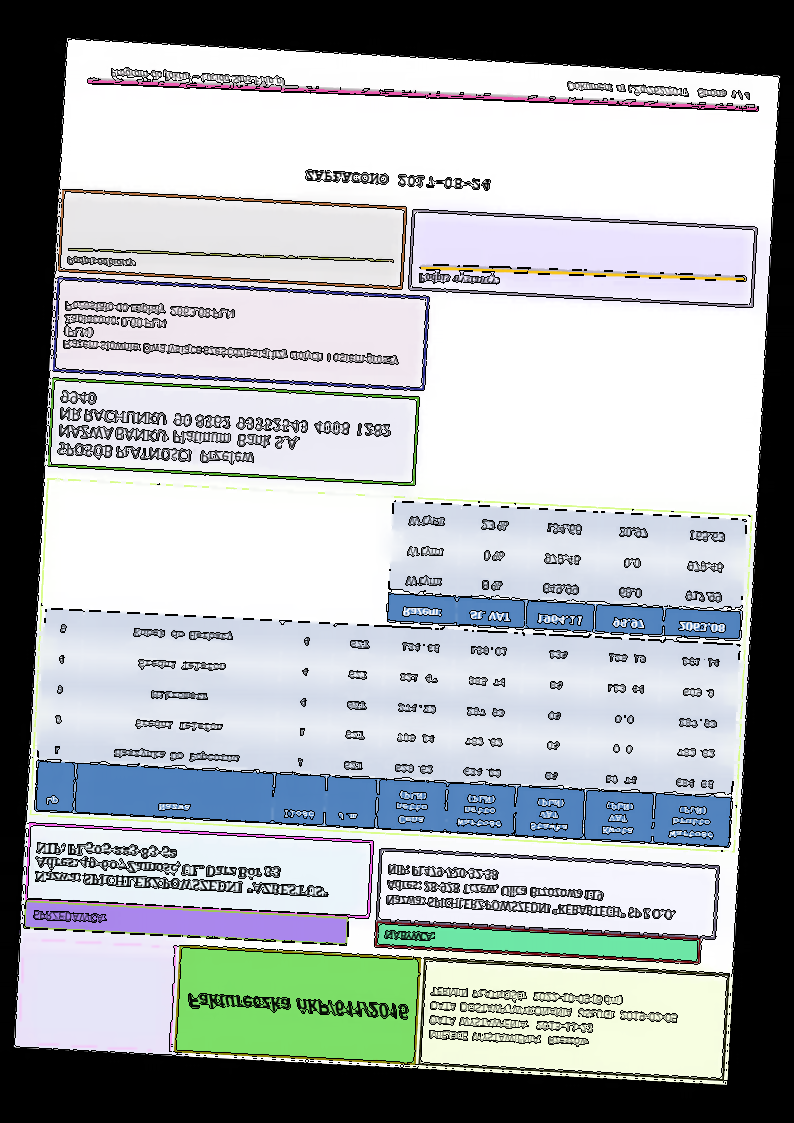Table: (32, 606, 742, 850), (383, 499, 750, 643)
TextBox: (53, 386, 398, 479), (59, 297, 407, 371), (31, 835, 332, 904), (382, 858, 683, 926), (425, 981, 685, 1058), (184, 986, 412, 1026), (561, 74, 755, 107), (302, 165, 494, 195), (105, 63, 289, 92), (414, 265, 503, 293), (27, 905, 108, 930), (60, 249, 137, 274), (381, 925, 437, 947)
